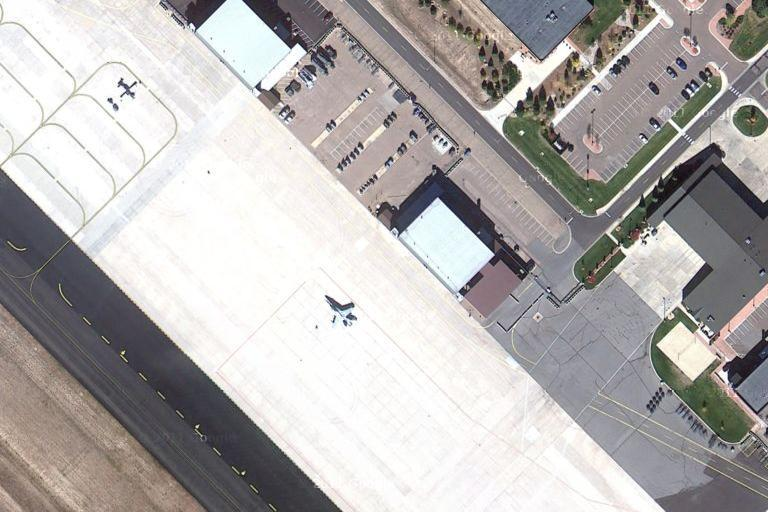F-16: (319, 293, 360, 330)
